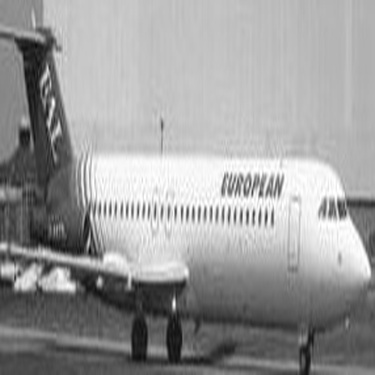airplane: (1, 3, 369, 370)
